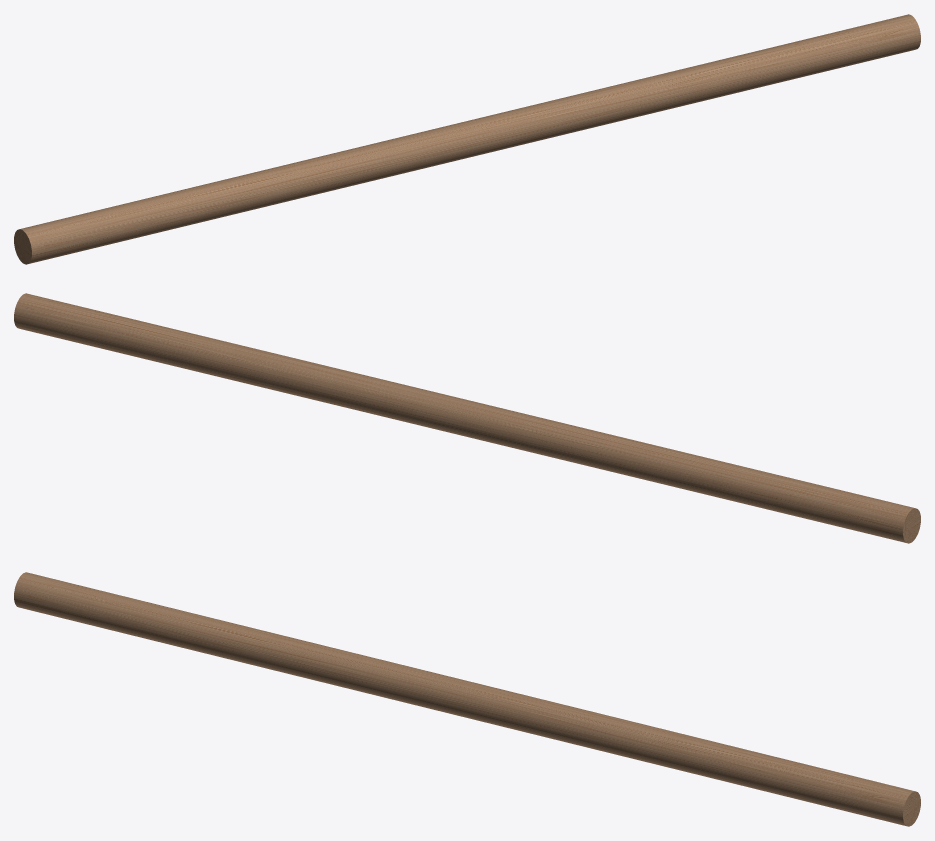
File: TuvoAlaIzq.obj
The picture shows the model from 3 angles, top to bottom: view 1: azimuth 30°, elevation 25°; view 2: azimuth 150°, elevation 25°; view 3: azimuth 330°, elevation 25°; orthographic projection.
Visible parts, largest first — view 1: Cylinder002; view 2: Cylinder002; view 3: Cylinder002.
Part boxes in pixels (bbox=[...]): Cylinder002: bbox=[14, 14, 920, 264]; Cylinder002: bbox=[14, 293, 920, 543]; Cylinder002: bbox=[14, 572, 920, 826].
Bounding box in the file's own units: 44.37 × 1.68 × 1.55.
Materials: 1 (1 with a texture image).
